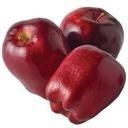apple: (58, 6, 124, 67)
